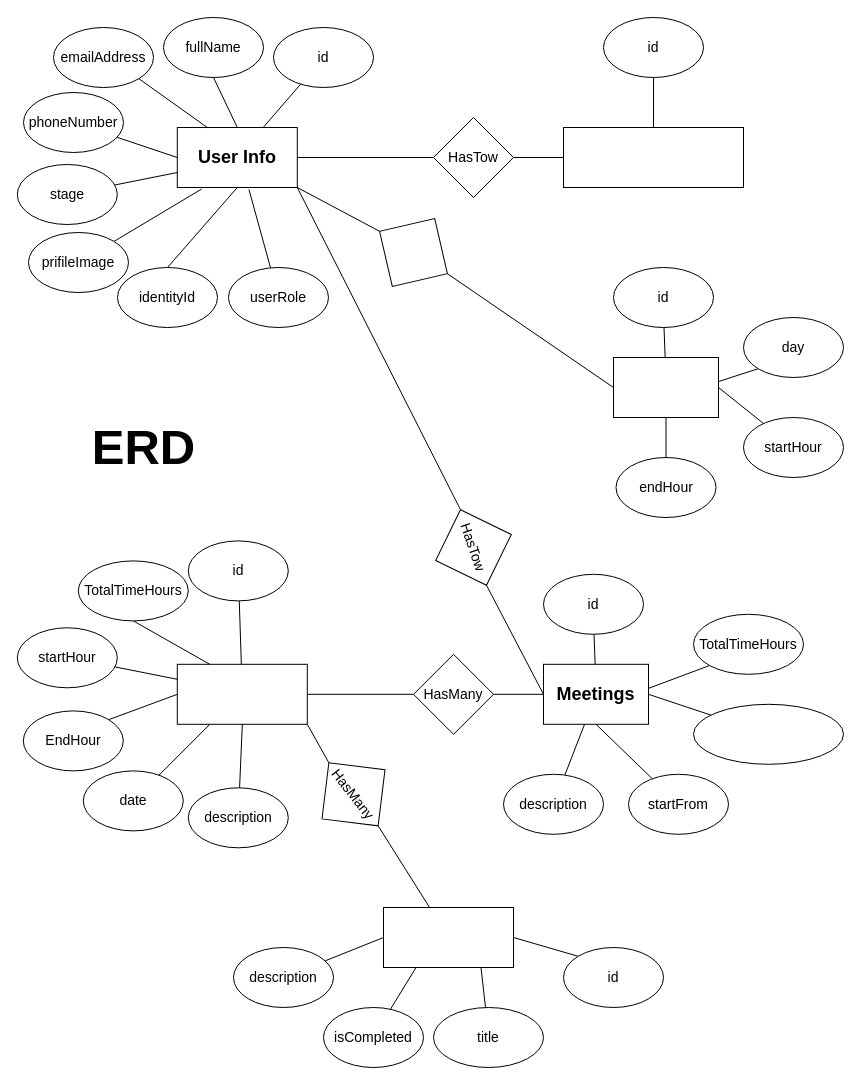
The diagram is 862 pixels wide and 1085 high, and some of its shapes have lost their labels. The shapes that lost their labels are listed below. From the top down, each one's centre as x and y in pixels, then its label:
At point 653,157: "StudentSupervisor".
At point 413,252: "HasOne".
At point 665,387: "DayFree".
At point 241,693: "SubMeetings".
At point 768,733: "RemindingTimeHours".
At point 448,937: "MeetingTasls".
